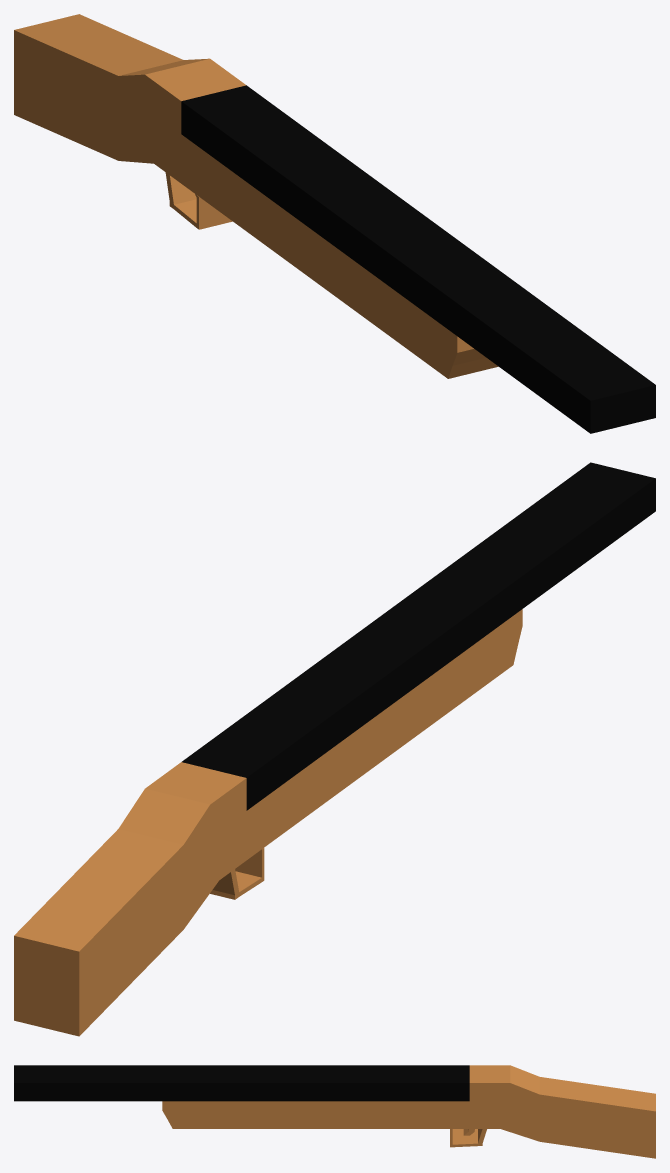
File: Shotgun2.fbx
3 renders of one model, top to bottom at view 1: azimuth 30°, elevation 25°; view 2: azimuth 150°, elevation 25°; view 3: azimuth 270°, elevation 25°, orthographic. The views are drawn at different scales.
Visible parts, largest first — view 1: Cube.001; view 2: Cube.001; view 3: Cube.001.
Boxes of the visible parts, x1,y1,x2,y2 form: Cube.001: [14, 14, 655, 433]; Cube.001: [14, 462, 655, 1036]; Cube.001: [14, 1065, 655, 1158].
Bounding box in the file's own units: 166 × 330 × 2535.
